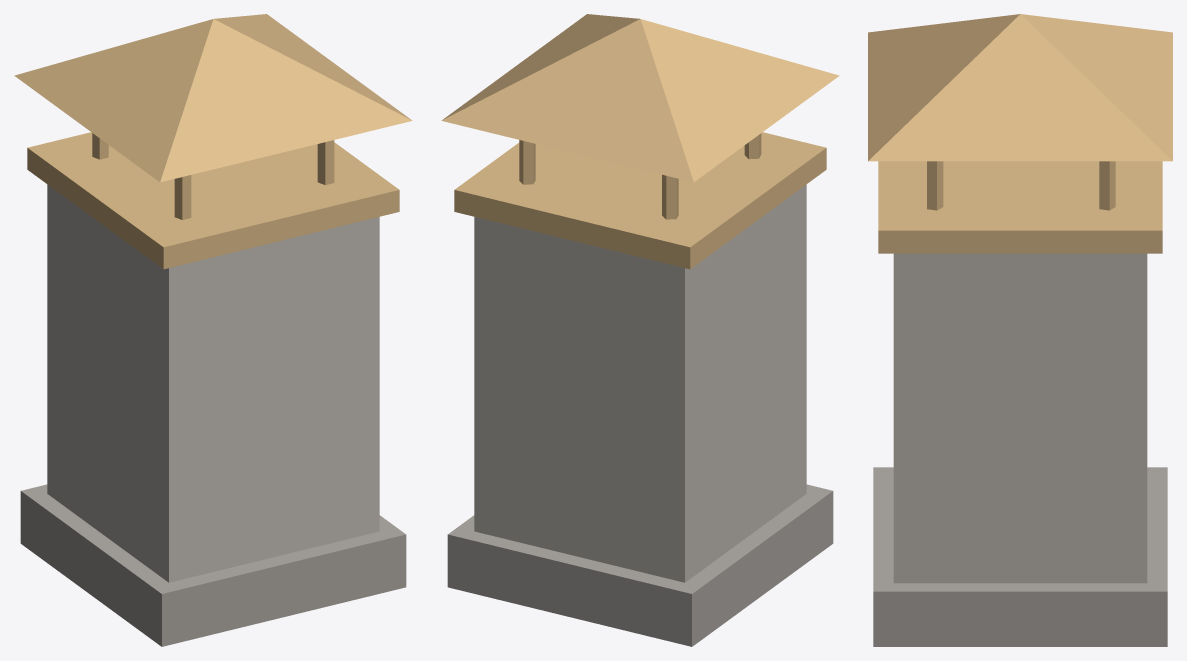
The picture shows the model from 3 angles, left to right: view 1: azimuth 30°, elevation 25°; view 2: azimuth 150°, elevation 25°; view 3: azimuth 270°, elevation 25°; orthographic projection. The views are drawn at different scales.
Parts seen in each view (by area): view 1: body; view 2: body; view 3: body.
Boxes of the visible parts, left/top/right/bottom form: body: left=14, top=14, right=412, bottom=646; body: left=441, top=14, right=839, bottom=646; body: left=868, top=14, right=1172, bottom=646.
Bounding box in the file's own units: 6 × 12.4 × 6.
